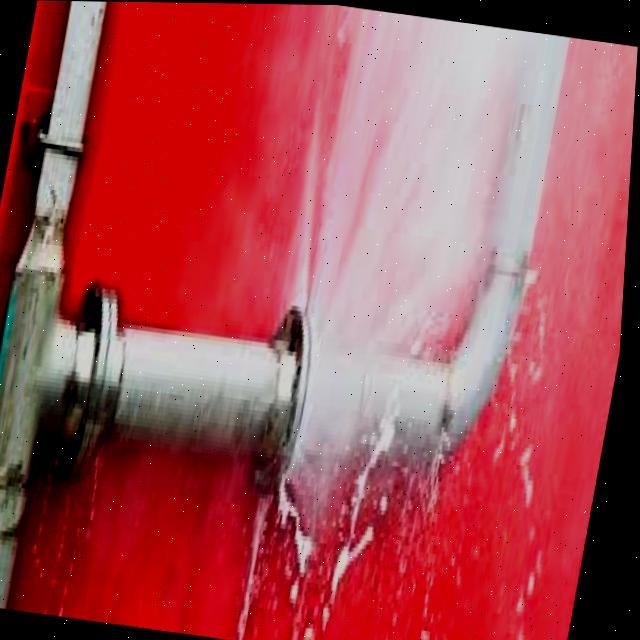corrosion: (184, 282, 400, 548)
